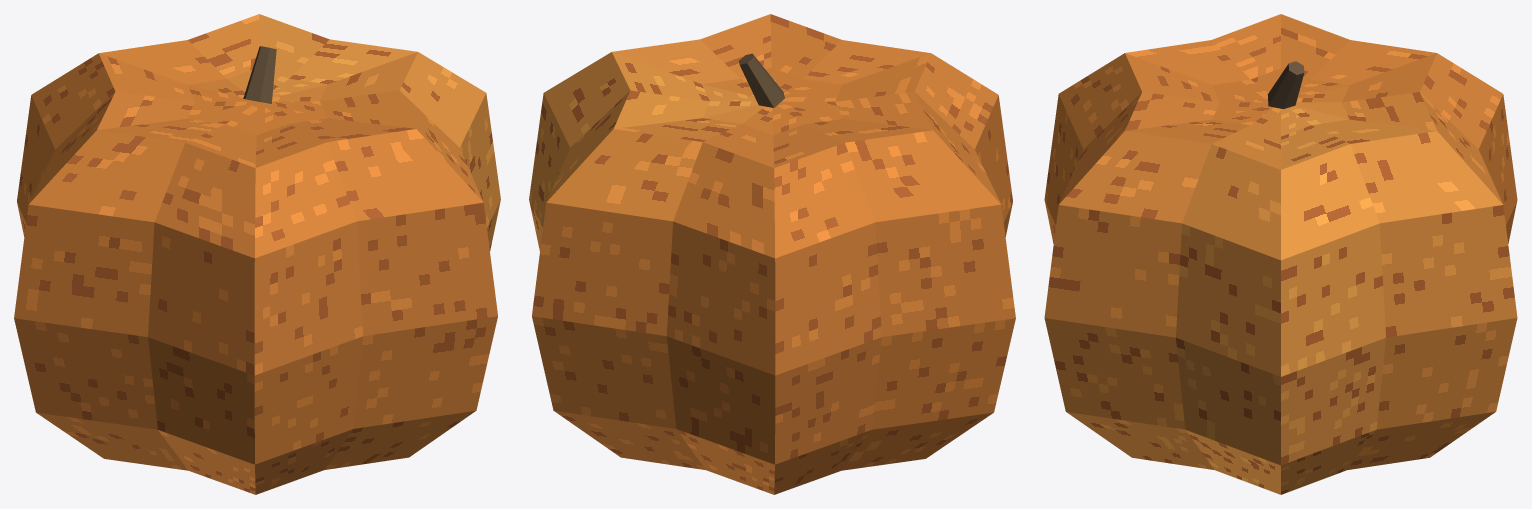
The model's file is pumpkin.glb.
The picture shows the model from 3 angles, left to right: view 1: azimuth 30°, elevation 25°; view 2: azimuth 150°, elevation 25°; view 3: azimuth 270°, elevation 25°; orthographic projection.
Visible parts, largest first — view 1: block_pumpkin, block_woody stem; view 2: block_pumpkin, block_woody stem; view 3: block_pumpkin, block_woody stem.
Boxes of the visible parts, x1,y1,x2,y2 form: block_pumpkin: (14, 14, 500, 494); block_woody stem: (243, 46, 276, 103); block_pumpkin: (529, 14, 1015, 494); block_woody stem: (738, 53, 784, 107); block_pumpkin: (1044, 14, 1517, 494); block_woody stem: (1267, 61, 1304, 108).
Size of the model in its own units: 0.2304 by 0.1659 by 0.1949.
1 material, 1 textured.
